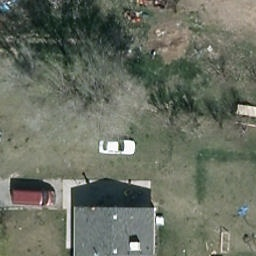car: (97, 140, 138, 155)
van: (10, 191, 57, 210)
